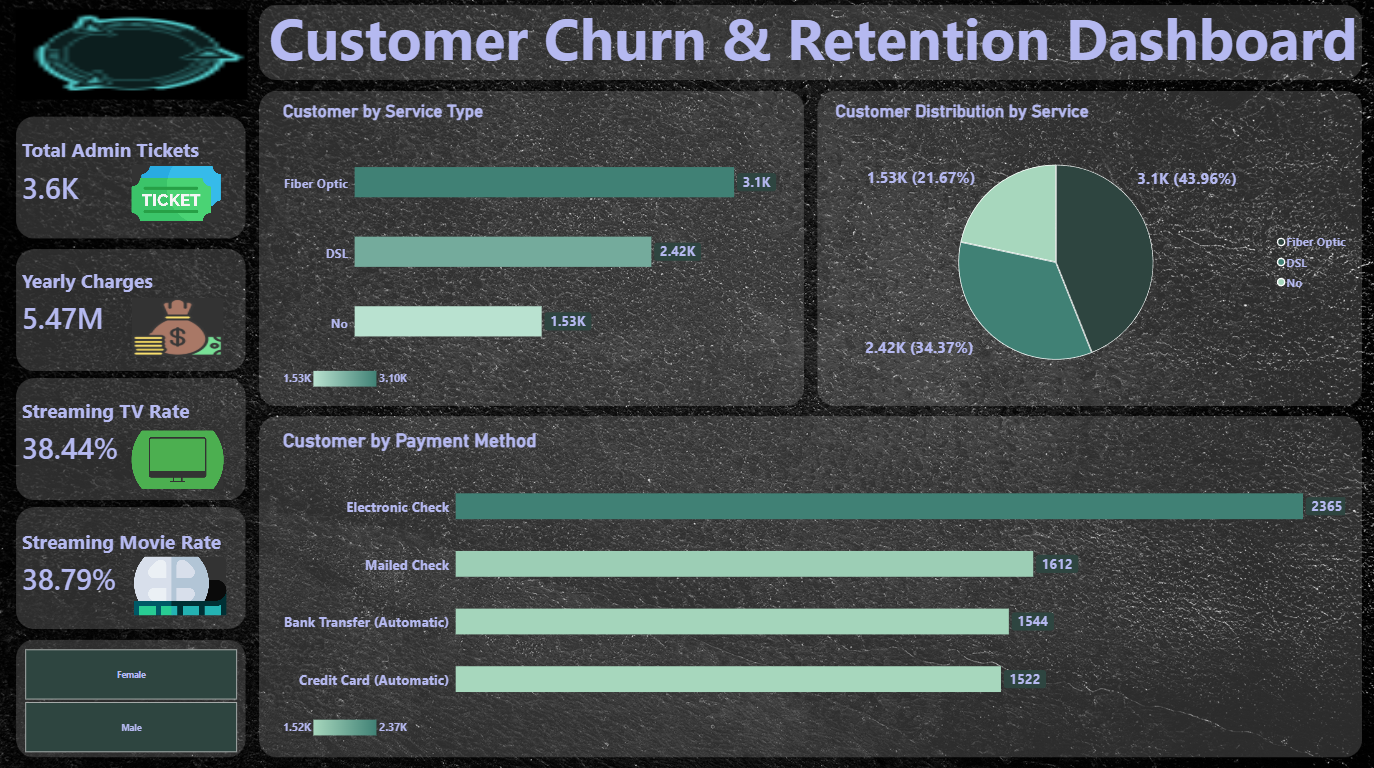

The dashboard page shown, as its layout file describes it:
{"tool":"powerbi","page":{"name":"Page 1","canvas":[1920,1080],"ordinal":0},"visuals":[{"type":"cardVisual","fields":{"Data":["Table.Total Admin Tickets","Table.Yearly Charges","Table.Streaming TV Rate","Table.Streaming Movie Rate"]},"box":[0,142.9,346.9,751],"z":0},{"type":"clusteredBarChart","title":"Customer  by Service Type","fields":{"Category":["_01_Churn_Dataset.InternetService"],"Y":["CountNonNull(_01_Churn_Dataset.Churn)"]},"box":[379.6,128.6,730.6,434.7],"z":1},{"type":"clusteredBarChart","title":"Customer by Payment Method","fields":{"Category":["_01_Churn_Dataset.PaymentMethod"],"Y":["CountNonNull(_01_Churn_Dataset.Churn)"]},"box":[379.6,587.8,1514.3,463.3],"z":2},{"type":"pieChart","title":"Customer Distribution by Service","fields":{"Category":["_01_Churn_Dataset.InternetService"],"Y":["CountNonNull(_01_Churn_Dataset.customerID)"]},"box":[1151,128.6,753.1,434.7],"z":3},{"type":"slicer","fields":{"Values":["_01_Churn_Dataset.gender"]},"box":[0,893.9,367.3,177.6],"z":4},{"type":"textbox","box":[367.3,0,1536.7,128.6],"z":6},{"type":"actionButton","box":[22.4,16.3,324.5,126.5],"z":7},{"type":"actionButton","box":[185.7,232.7,124.5,81.6],"z":8},{"type":"actionButton","box":[185.7,418.4,128.6,81.6],"z":9},{"type":"actionButton","box":[185.7,604.1,128.6,81.6],"z":10},{"type":"actionButton","box":[187.8,779.6,128.6,81.6],"z":11}]}

Visuals, with their boxes in screenshot pixels (x1, y1, x2, y2), scaled from the page's 1920x1080 canvas onto the 1374x768 screenshot:
cardVisual - Table.Total Admin Tickets x Table.Yearly Charges: pyautogui.locateOnScreen(0, 102, 248, 636)
"Customer  by Service Type" clusteredBarChart: pyautogui.locateOnScreen(272, 91, 794, 401)
"Customer by Payment Method" clusteredBarChart: pyautogui.locateOnScreen(272, 418, 1355, 747)
"Customer Distribution by Service" pieChart: pyautogui.locateOnScreen(824, 91, 1363, 401)
slicer - _01_Churn_Dataset.gender: pyautogui.locateOnScreen(0, 636, 263, 762)
textbox: pyautogui.locateOnScreen(263, 0, 1363, 91)
actionButton: pyautogui.locateOnScreen(16, 12, 248, 102)
actionButton: pyautogui.locateOnScreen(133, 165, 222, 224)
actionButton: pyautogui.locateOnScreen(133, 298, 225, 356)
actionButton: pyautogui.locateOnScreen(133, 430, 225, 488)
actionButton: pyautogui.locateOnScreen(134, 554, 226, 612)
